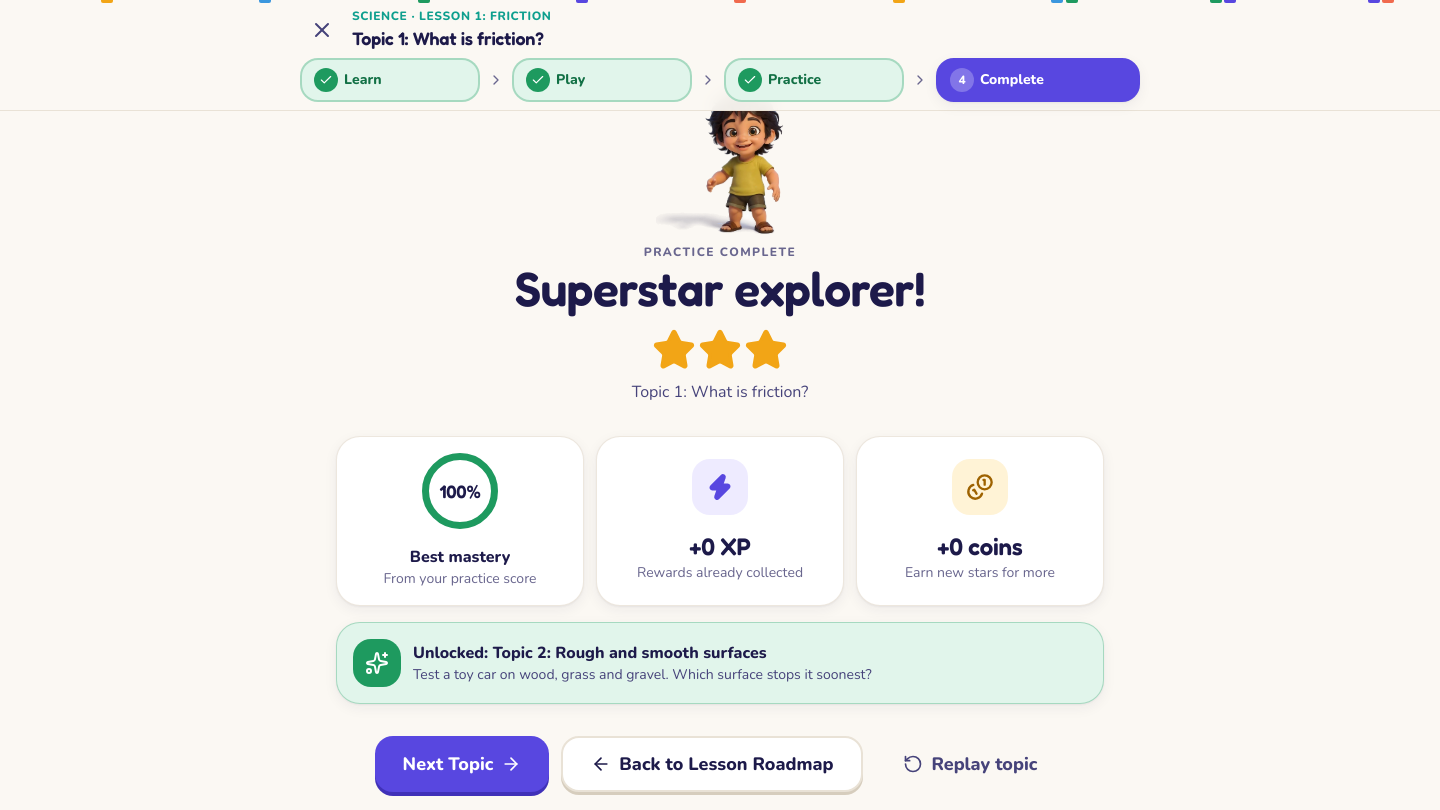
Scenario: learning hierarchy › shows rewards on Complete and moves to the unlocked next topic
(page scrolled)
Check: the text "Unlocked: Topic 2: Rough and smooth surfaces" is shown, box x1=413 y1=642 x2=767 y2=664
Click the link "Next Topic". click: (462, 764)
box: x1=375 y1=736 x2=549 y2=792
(page scrolled)
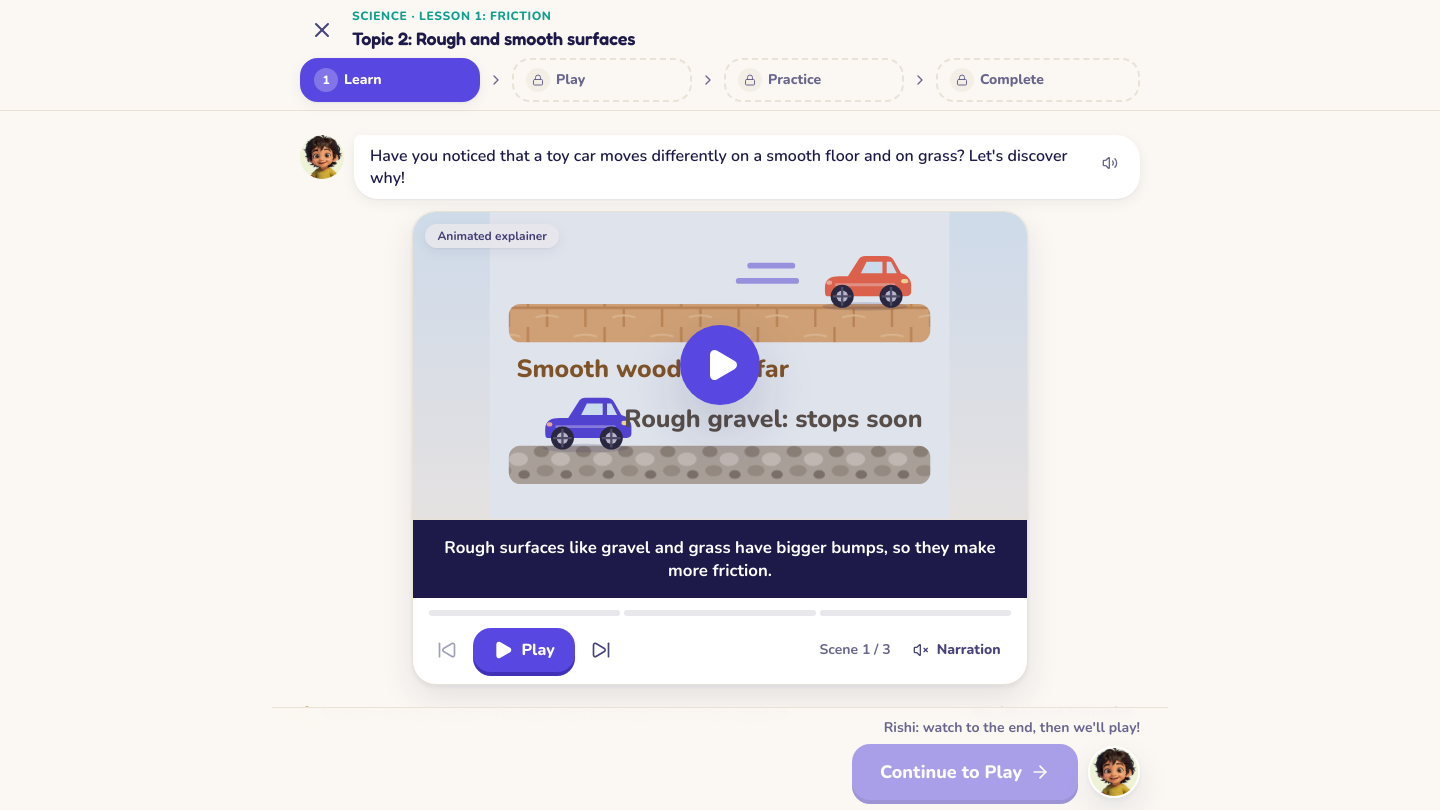
Check: the heading "Topic 2: Rough and smooth surfaces" is shown, box x1=352 y1=27 x2=635 y2=49
